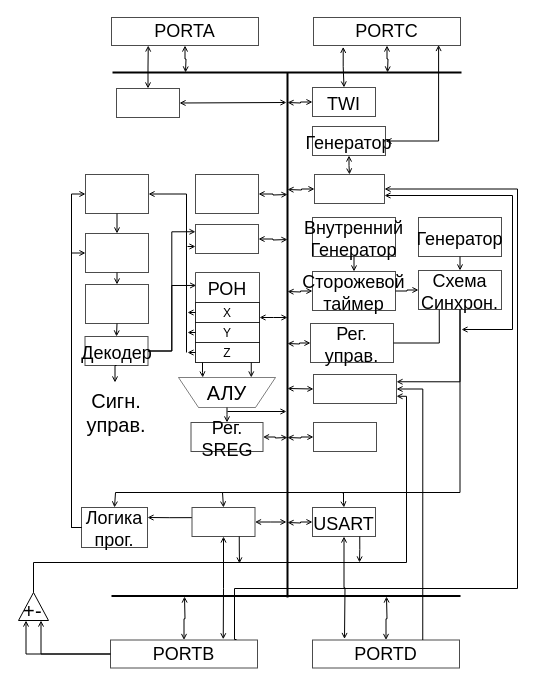
The diagram is 541 pixels wide and 686 high, and some of its shapes have lost their labels. Here are the shapes that lost their labels. From the top down, the box of each, then its label:
(116, 88, 180, 118): АЦП
(84, 174, 148, 214): Прог. счетчик
(194, 174, 258, 214): Указ. Стека
(314, 174, 384, 204): Таймеры
(84, 232, 148, 272): Память flash
(194, 224, 258, 254): SRAM
(84, 284, 148, 324): Регистр команд
(312, 374, 396, 404): Прерывания
(312, 422, 376, 452): EEPROM
(191, 506, 255, 536): SPI
